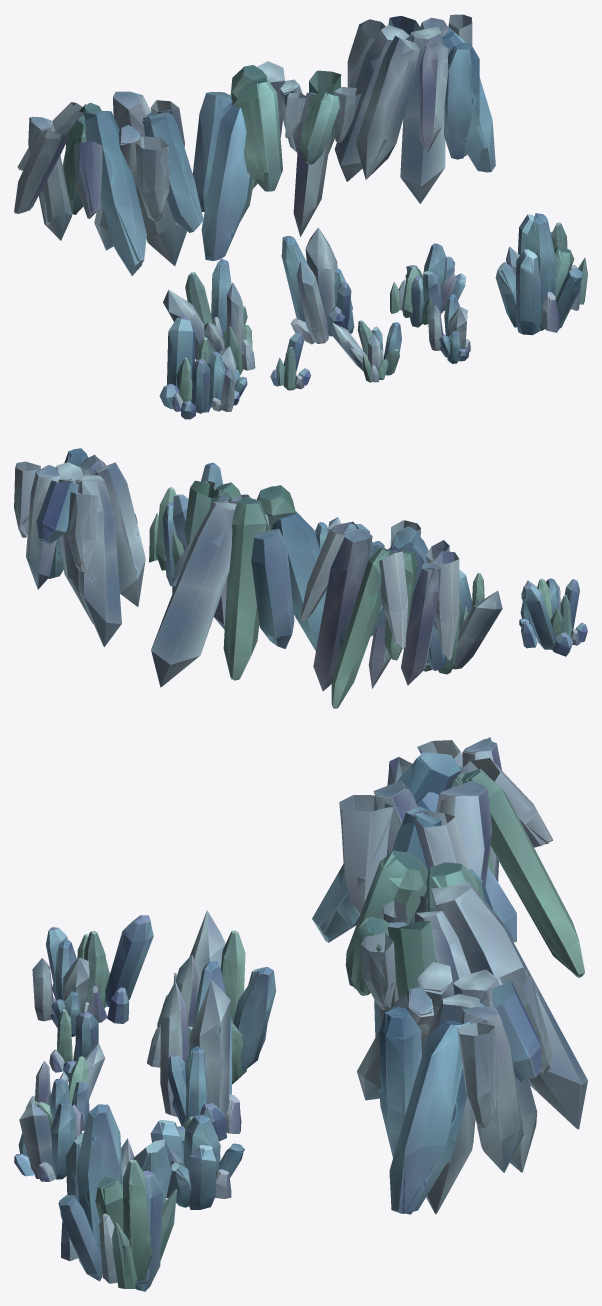
File: Crystals_1A1.fbx
The picture shows the model from 3 angles, top to bottom: view 1: azimuth 30°, elevation 25°; view 2: azimuth 150°, elevation 25°; view 3: azimuth 270°, elevation 25°; orthographic projection. The views are drawn at different scales.
Visible parts, largest first — view 1: Ceiling_Crystals_1A3, Ceiling_Crystals_1A1, Ceiling_Crystals_1A2, Crystals_1A5, Ceiling_Crystals_1A1.001, Crystals_1A7, Crystals_1A1, Crystals_1A8, Ceiling_Crystals_1A1.002, Ceiling_Crystals_1A2.001, Ceiling_Crystals_1A3.001, Crystals_1A6 (+14 smaller); view 2: Ceiling_Crystals_1A2, Ceiling_Crystals_1A1, Ceiling_Crystals_1A3, Ceiling_Crystals_1A2.001, Crystals_1A1, Ceiling_Crystals_1A1.001, Crystals_1A8, Ceiling_Crystals_1A3.002, Crystals_1A5, Ceiling_Crystals_1A1.002, Ceiling_Crystals_1A3.001, Ceiling_Crystals_1A2.002 (+6 smaller); view 3: Ceiling_Crystals_1A3, Ceiling_Crystals_1A1, Ceiling_Crystals_1A2, Crystals_1A5, Crystals_1A7, Ceiling_Crystals_1A3.002, Crystals_1A1, Crystals_1A8, Ceiling_Crystals_1A3.001, Ceiling_Crystals_1A1.001, Ceiling_Crystals_1A1.002, Ceiling_Crystals_1A2.002 (+14 smaller).
Boxes of the visible parts, box(x1,y1,x2,y2) form: Ceiling_Crystals_1A3: box(335, 14, 495, 203); Ceiling_Crystals_1A1: box(14, 91, 203, 274); Ceiling_Crystals_1A2: box(192, 61, 360, 260); Crystals_1A5: box(495, 213, 587, 334); Ceiling_Crystals_1A1.001: box(14, 92, 202, 271); Crystals_1A7: box(282, 228, 354, 344); Crystals_1A1: box(159, 317, 247, 419); Crystals_1A8: box(163, 259, 253, 374); Ceiling_Crystals_1A1.002: box(15, 91, 202, 275); Ceiling_Crystals_1A2.001: box(193, 61, 360, 259); Ceiling_Crystals_1A3.001: box(347, 15, 494, 186); Crystals_1A6: box(390, 243, 465, 327); Ceiling_Crystals_1A2: box(151, 481, 326, 686); Ceiling_Crystals_1A1: box(300, 520, 459, 708); Ceiling_Crystals_1A3: box(14, 448, 145, 646); Ceiling_Crystals_1A2.001: box(151, 481, 324, 684); Crystals_1A1: box(519, 578, 587, 656); Ceiling_Crystals_1A1.001: box(301, 521, 459, 707); Crystals_1A8: box(423, 590, 502, 674); Ceiling_Crystals_1A3.002: box(14, 448, 144, 623); Crystals_1A5: box(149, 462, 222, 585); Ceiling_Crystals_1A1.002: box(302, 520, 458, 708); Ceiling_Crystals_1A3.001: box(14, 451, 145, 646); Ceiling_Crystals_1A2.002: box(151, 481, 316, 679); Ceiling_Crystals_1A3: box(357, 962, 551, 1213); Ceiling_Crystals_1A1: box(312, 739, 584, 977); Ceiling_Crystals_1A2: box(345, 850, 587, 1129); Crystals_1A5: box(59, 1104, 176, 1291); Crystals_1A7: box(160, 961, 241, 1141); Ceiling_Crystals_1A3.002: box(379, 963, 551, 1214); Crystals_1A1: box(32, 915, 153, 1036); Crystals_1A8: box(149, 910, 275, 1084); Ceiling_Crystals_1A3.001: box(357, 962, 551, 1213); Ceiling_Crystals_1A1.001: box(319, 739, 584, 976); Ceiling_Crystals_1A1.002: box(312, 737, 580, 978); Ceiling_Crystals_1A2.002: box(346, 851, 583, 1129).
Bounding box in the file's own units: 1077 × 506 × 851.
